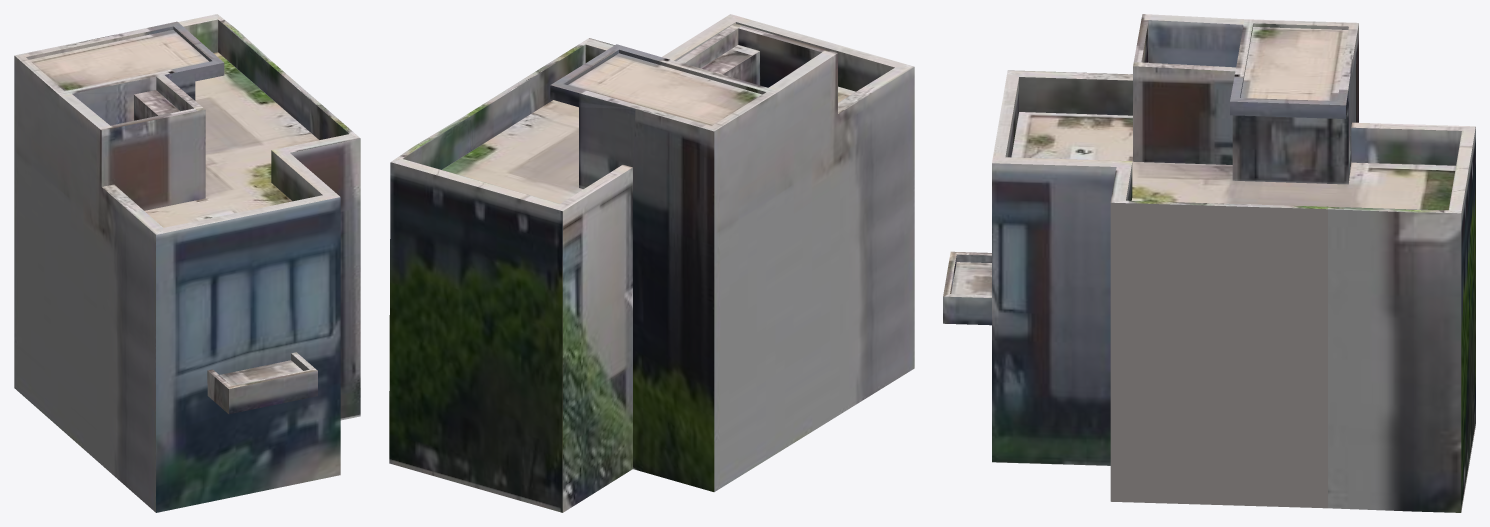
3 renders of one model, left to right at view 1: azimuth 30°, elevation 25°; view 2: azimuth 150°, elevation 25°; view 3: azimuth 270°, elevation 25°, orthographic. The views are drawn at different scales.
Parts seen in each view (by area): view 1: B283424038401062A0; view 2: B283424038401062A0; view 3: B283424038401062A0.
Boxes of the visible parts, box(x1,y1,x2,y2) form: B283424038401062A0: box(14, 14, 360, 512); B283424038401062A0: box(389, 14, 914, 512); B283424038401062A0: box(943, 14, 1475, 512).
Bounding box in the file's own units: 9.6 × 11.21 × 15.05.
Materials: 1 (1 with a texture image).
